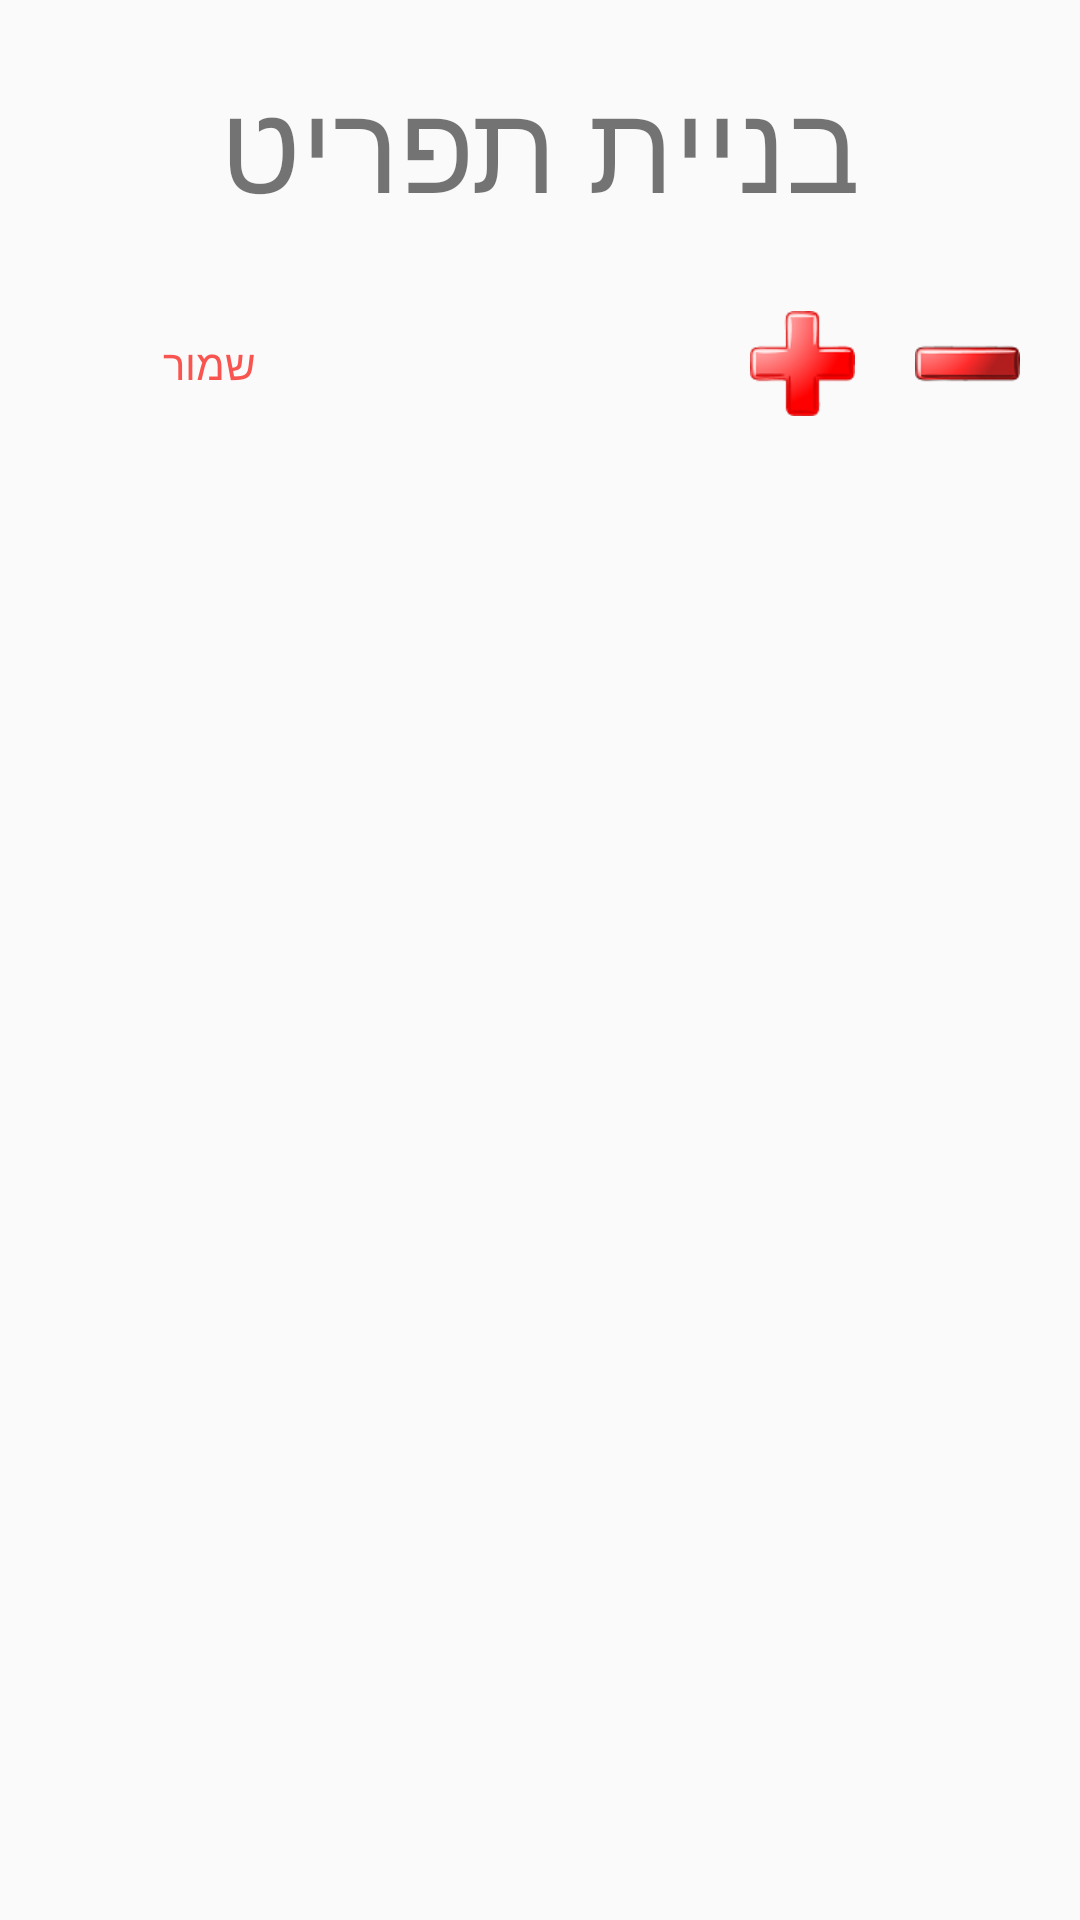

Screen size 1080w x 1920h. Icon name, then its center in pixels as [x,y]:
minus: [967,363]
plus: [802,363]
